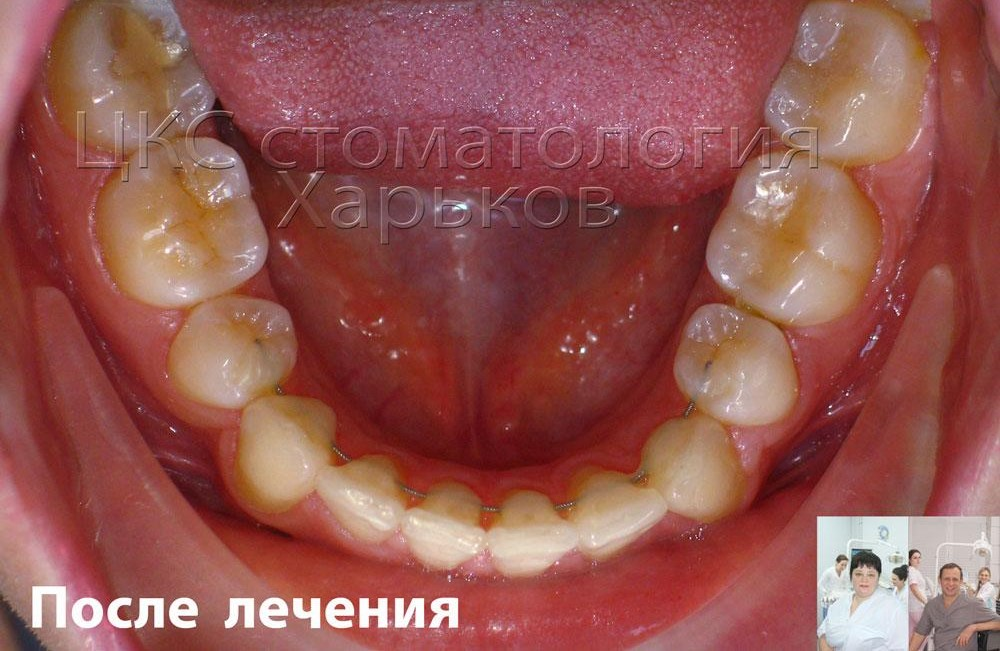LL1BC_decay: (668, 300, 797, 434)
LL1M_healthy: (775, 1, 929, 124)
LL2BC_healthy: (707, 172, 883, 332)
LLCI_healthy: (483, 481, 576, 576)
LLC_healthy: (638, 412, 748, 525)
LLLI_healthy: (563, 461, 666, 561)
LR1BC_decay: (166, 299, 300, 408)
LR1M_decay: (46, 6, 202, 100)
LR2BC_decay: (96, 186, 268, 304)
LRCI_healthy: (402, 481, 490, 568)
LRC_healthy: (241, 393, 335, 508)
LRLI_healthy: (317, 446, 408, 542)
